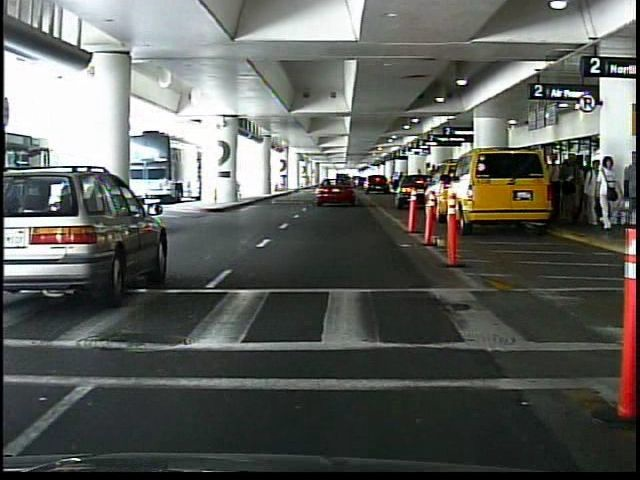person: (597, 154, 620, 230), (620, 152, 640, 230)
